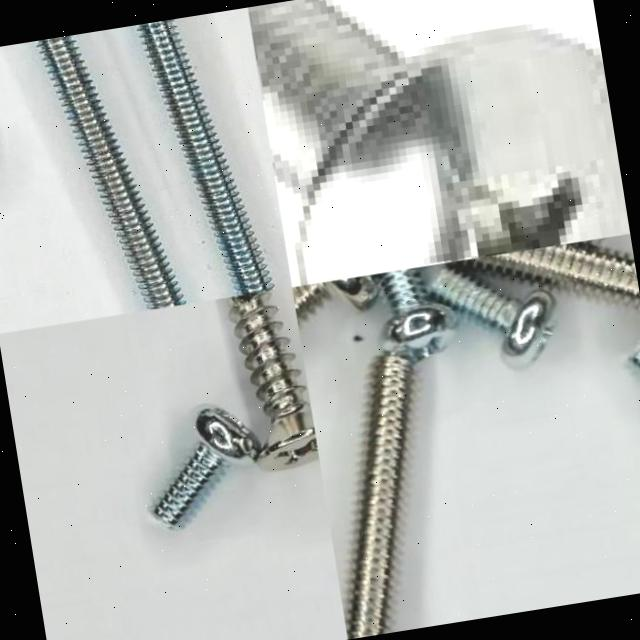Screw: (248, 0, 630, 287), (36, 35, 186, 310), (138, 19, 276, 296), (345, 349, 413, 640), (230, 292, 319, 471), (149, 408, 260, 530), (428, 267, 555, 368), (465, 241, 640, 306), (371, 268, 456, 360)
